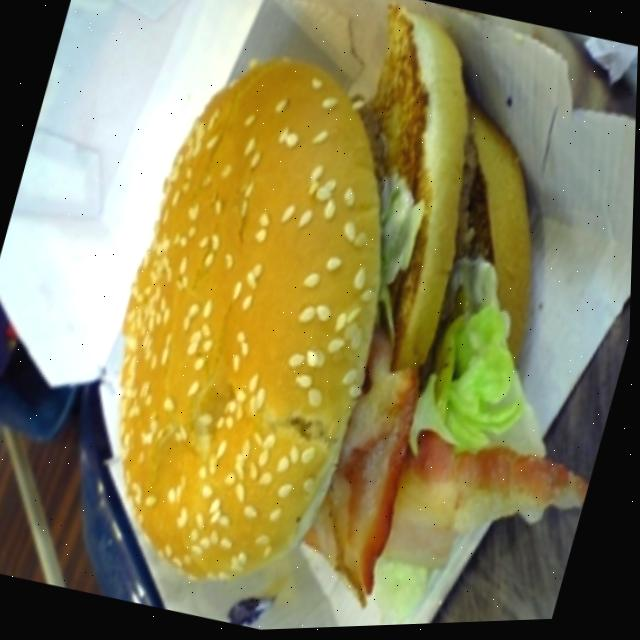汉堡快餐: (52, 16, 639, 638)
